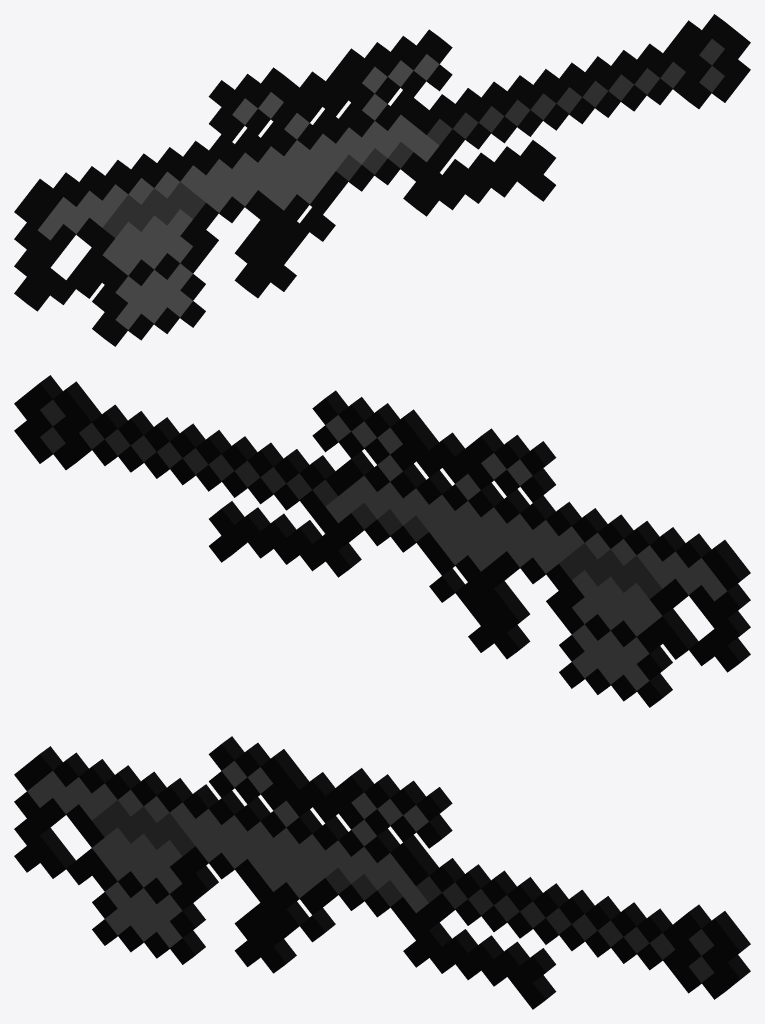
File: AWP.glb
3 views of the same model, one above another, from view 1: azimuth 30°, elevation 25°; view 2: azimuth 150°, elevation 25°; view 3: azimuth 330°, elevation 25° (orthographic).
Parts seen in each view (by area): view 1: Untitled; view 2: Untitled; view 3: Untitled.
Boxes of the visible parts, <box> form: Untitled: <box>14,14,750,346</box>; Untitled: <box>14,375,750,707</box>; Untitled: <box>14,736,750,1009</box>.
Size of the model in its own units: 17.82 by 5.41 by 0.45.
Materials: 1 (1 with a texture image).
